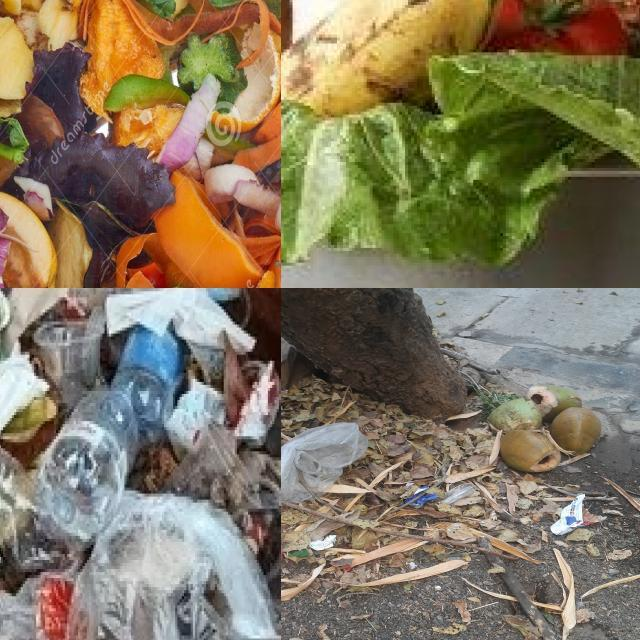Disposable: (167, 424, 255, 511), (34, 308, 106, 410)
Garbage: (0, 288, 281, 640), (281, 0, 640, 265), (281, 337, 602, 587)
Plastic_Bag: (69, 492, 276, 640), (281, 423, 369, 503), (443, 482, 479, 505)
Plastic_bottle: (35, 390, 139, 548), (112, 326, 185, 444), (0, 576, 73, 640), (0, 446, 32, 546)
Plastic_wraper: (403, 487, 437, 508)
